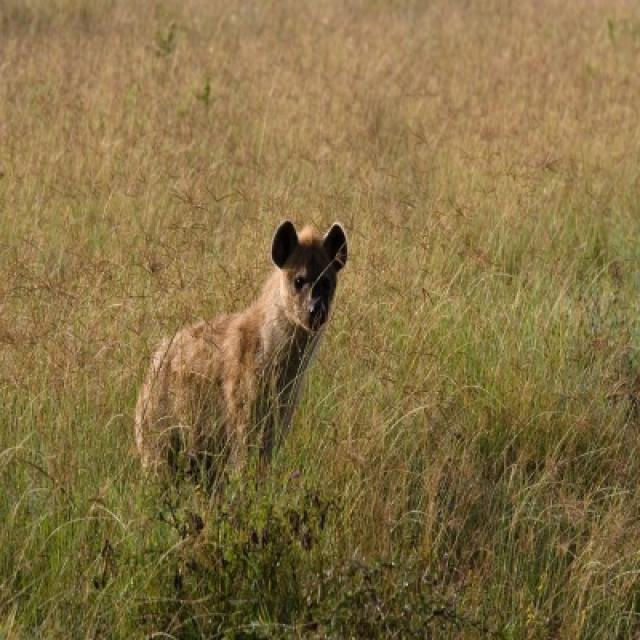hyena: (134, 221, 346, 477)
